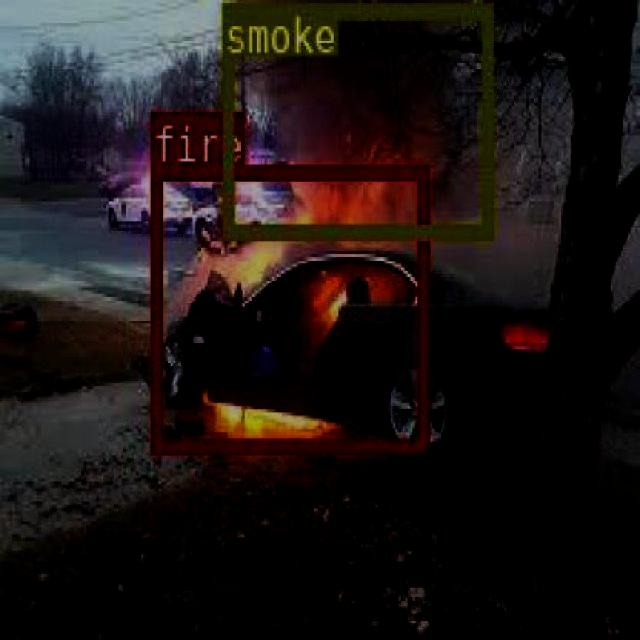fire: (148, 164, 426, 450)
smoke: (219, 1, 490, 234)
